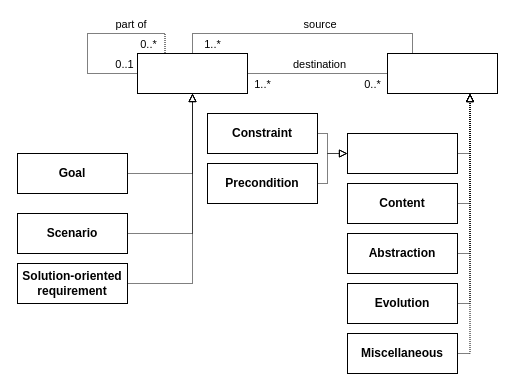
Image size: 515x391. Some labels were removed from this diagram. The shapes that lost their labels are listed below. From the top down, each one's box as (x1, y1, x2, y2) in pixels, then its label:
(136, 52, 248, 94): Traceable artefact
(386, 52, 498, 94): Traceability relationship
(346, 132, 458, 174): Condition
